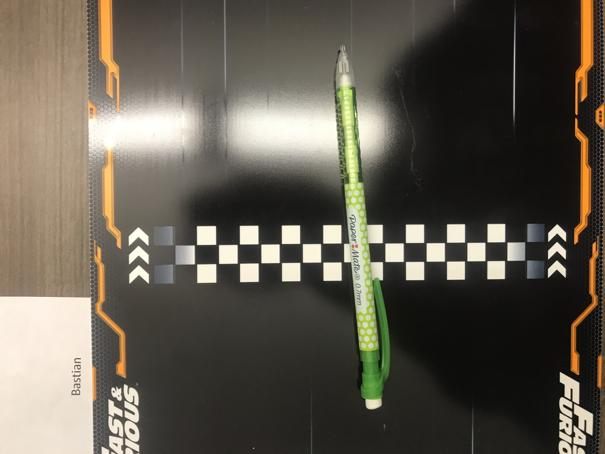Finish Line: (128, 222, 569, 286)
